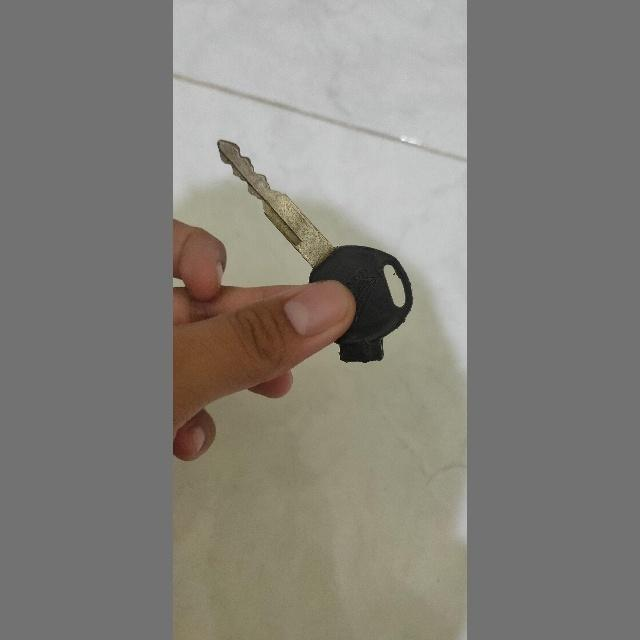Keys: (202, 126, 420, 372)
